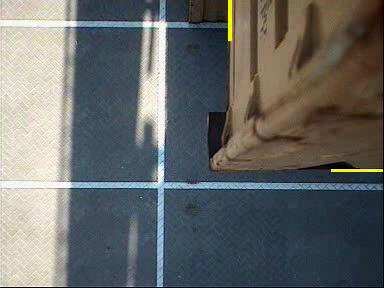groundmarker_2: (120, 155, 190, 196)
